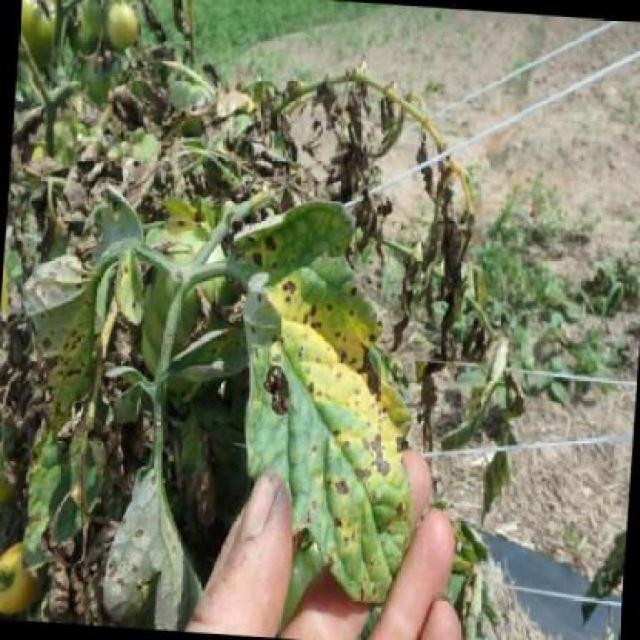Septoria leaf spot: (212, 183, 436, 603), (15, 230, 116, 428), (103, 462, 199, 609)
